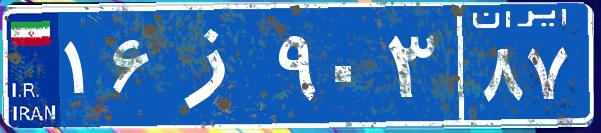0: (330, 28, 385, 110)
1: (57, 26, 110, 107)
3: (385, 28, 445, 110)
6: (110, 28, 158, 105)
7: (525, 38, 570, 115)
8: (475, 38, 525, 113)
9: (273, 28, 330, 110)
ز: (158, 15, 273, 115)
